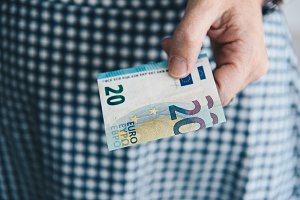billete: (96, 51, 228, 153)
